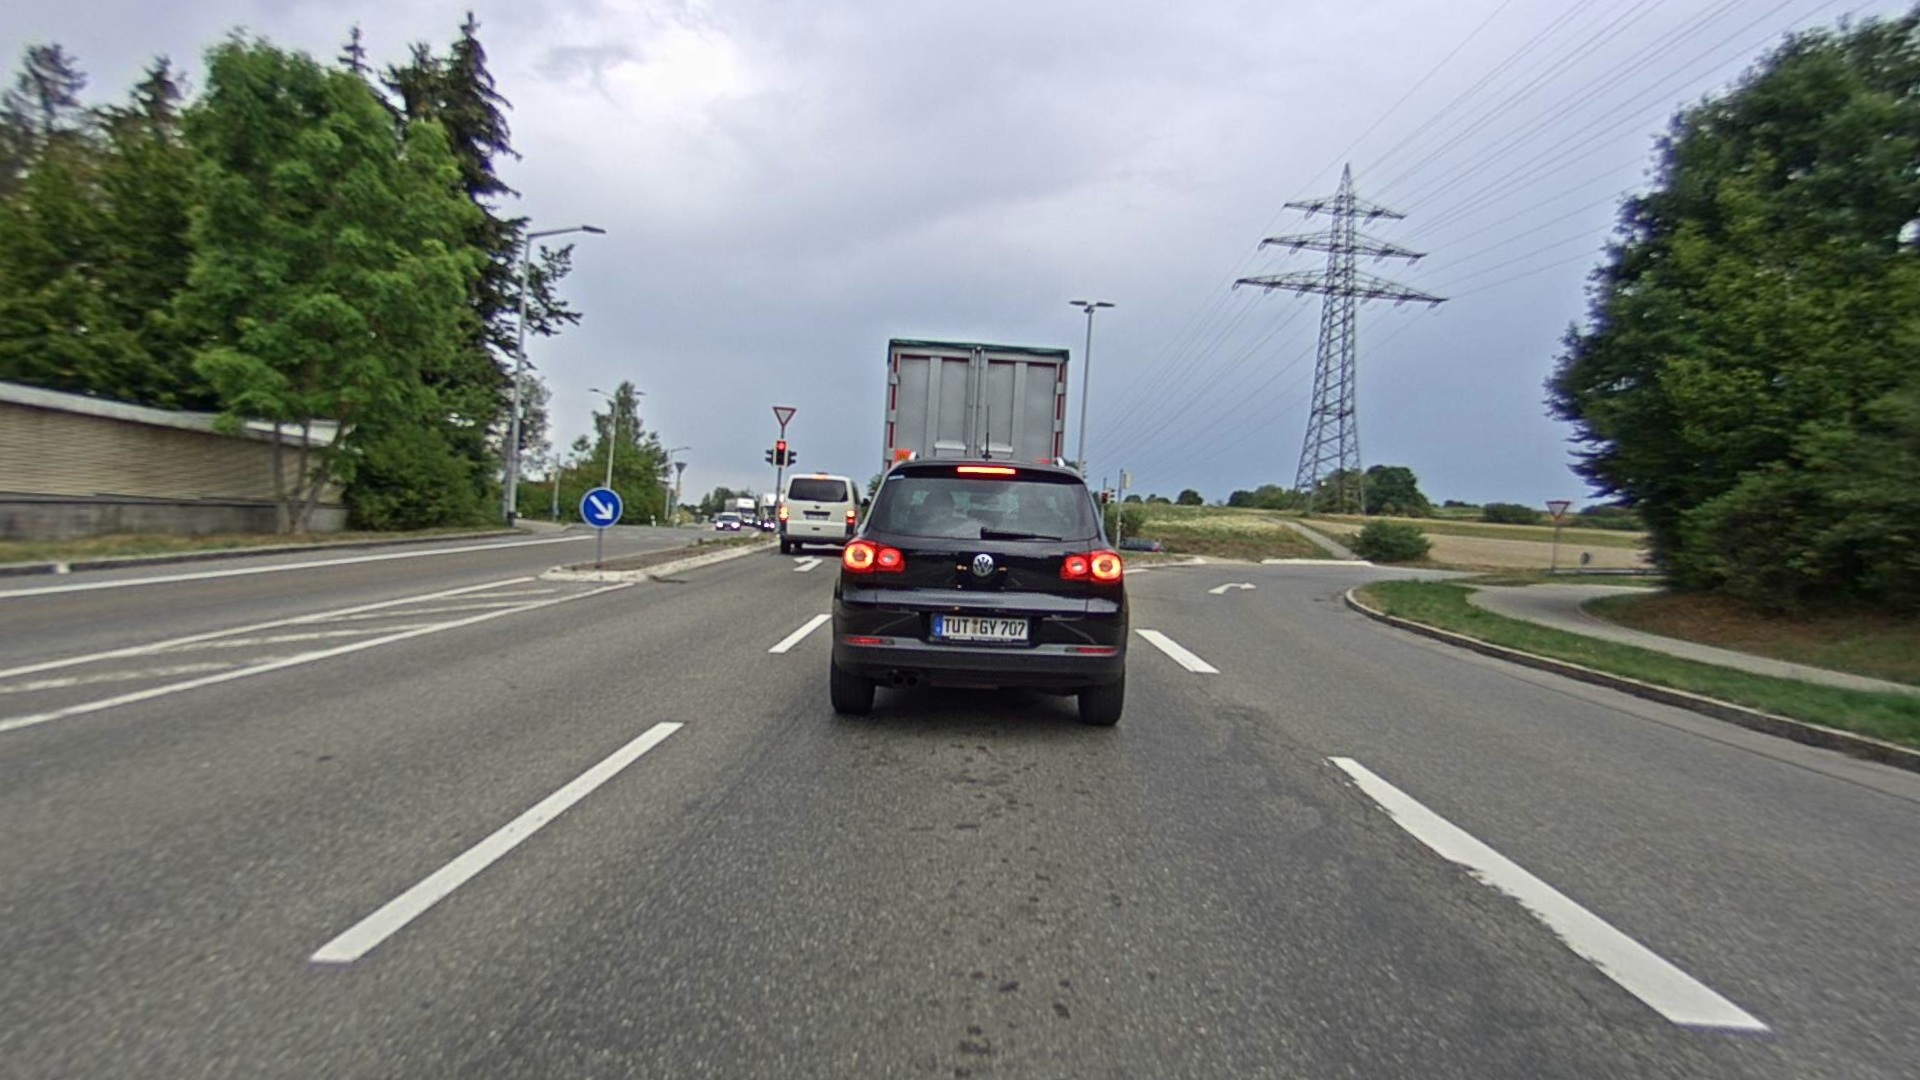car: (827, 454, 1135, 735)
